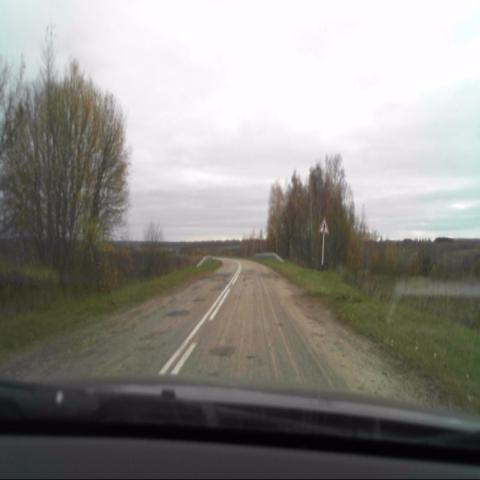2_3: (318, 217, 330, 236)
